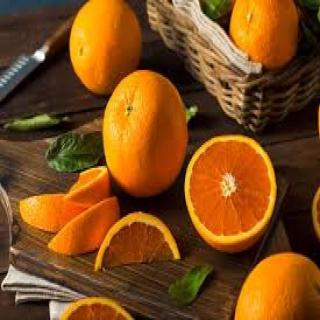orange: (184, 109, 280, 263), (94, 65, 192, 210), (65, 0, 147, 92), (94, 208, 190, 286), (227, 0, 309, 80)
